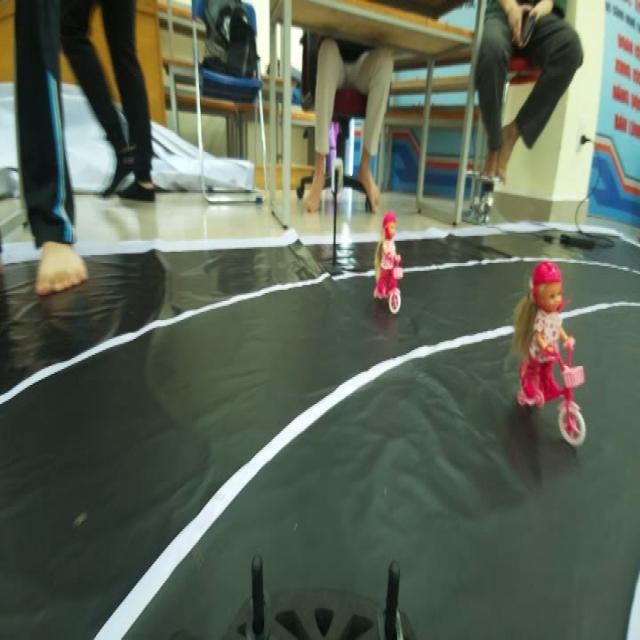pedestrian: (512, 256, 586, 454), (368, 194, 408, 318)
